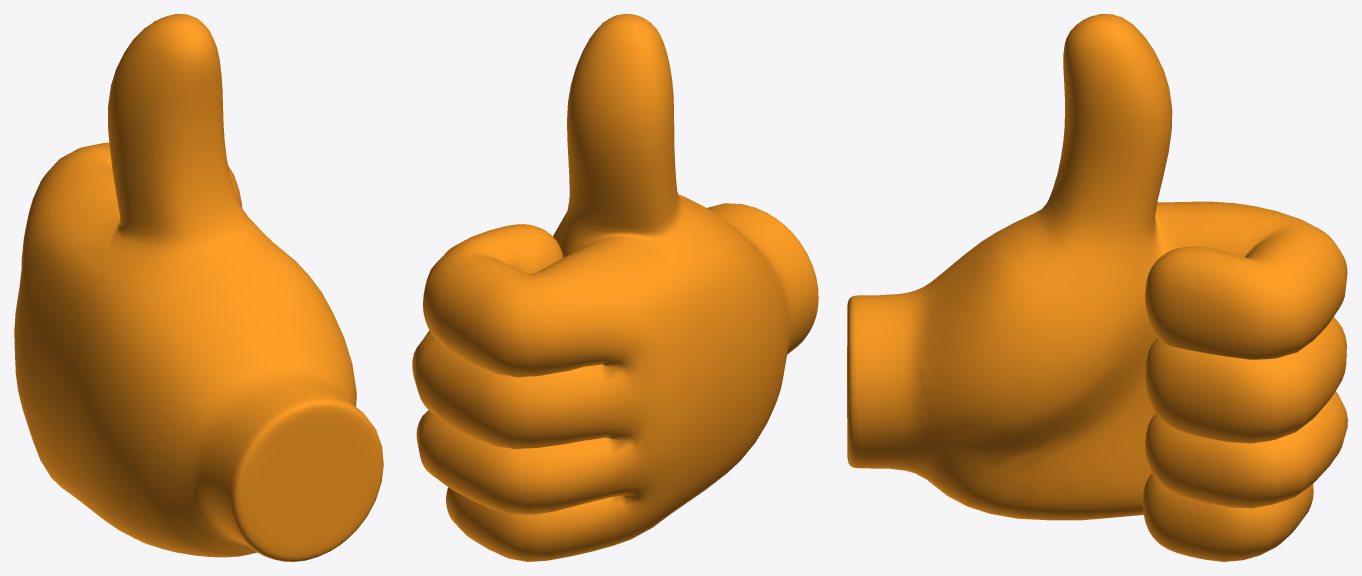
Rendered from HandGood.FBX.
The picture shows the model from 3 angles, left to right: view 1: azimuth 30°, elevation 25°; view 2: azimuth 150°, elevation 25°; view 3: azimuth 270°, elevation 25°; orthographic projection. The views are drawn at different scales.
Visible parts, largest first — view 1: S_Like_L; view 2: S_Like_L; view 3: S_Like_L.
Boxes of the visible parts, x1,y1,x2,y2 form: S_Like_L: [14, 14, 383, 561]; S_Like_L: [412, 14, 818, 561]; S_Like_L: [847, 14, 1347, 561].
Size of what is drawn, in the model's own units: 20.89 by 36.81 by 40.83.
